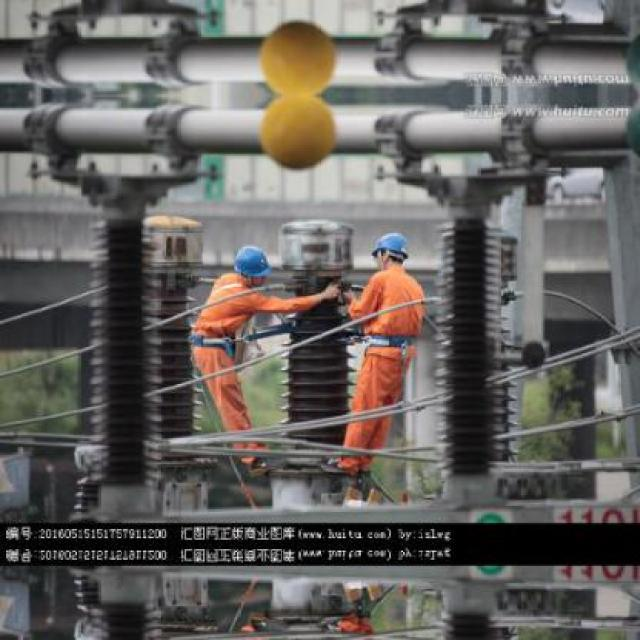helmet: (370, 228, 412, 273), (232, 244, 276, 285)
